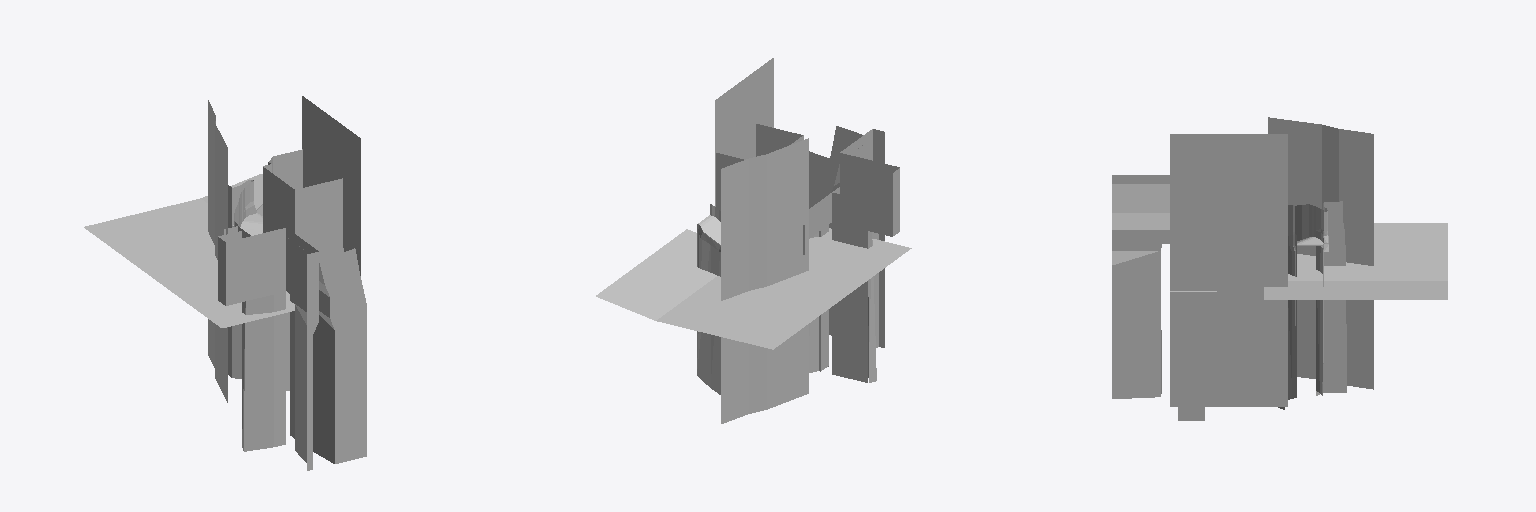
Rendered from STG0100_COLI_05.OBJ.
3 renders of one model, left to right at view 1: azimuth 30°, elevation 25°; view 2: azimuth 150°, elevation 25°; view 3: azimuth 270°, elevation 25°, orthographic.
Parts seen in each view (by area): view 1: STG0100_COLI_05_[number redacted], STG0100_COLI_05_[number redacted], STG0100_COLI_05_[number redacted], STG0100_COLI_05_[number redacted]; view 2: STG0100_COLI_05_[number redacted], STG0100_COLI_05_[number redacted], STG0100_COLI_05_[number redacted], STG0100_COLI_05_[number redacted]; view 3: STG0100_COLI_05_[number redacted], STG0100_COLI_05_[number redacted], STG0100_COLI_05_[number redacted], STG0100_COLI_05_[number redacted].
Part boxes in pixels (bbox=[...]): STG0100_COLI_05_[number redacted]: bbox=[218, 96, 366, 470]; STG0100_COLI_05_[number redacted]: bbox=[84, 174, 294, 327]; STG0100_COLI_05_[number redacted]: bbox=[208, 100, 253, 402]; STG0100_COLI_05_[number redacted]: bbox=[228, 181, 318, 378]; STG0100_COLI_05_[number redacted]: bbox=[710, 58, 899, 382]; STG0100_COLI_05_[number redacted]: bbox=[721, 138, 808, 423]; STG0100_COLI_05_[number redacted]: bbox=[596, 228, 911, 349]; STG0100_COLI_05_[number redacted]: bbox=[697, 224, 720, 394]; STG0100_COLI_05_[number redacted]: bbox=[1112, 134, 1326, 420]; STG0100_COLI_05_[number redacted]: bbox=[1268, 117, 1373, 389]; STG0100_COLI_05_[number redacted]: bbox=[1170, 223, 1447, 299]; STG0100_COLI_05_[number redacted]: bbox=[1161, 201, 1346, 399].
Bounding box in the file's own units: 1270 × 1988 × 2069.